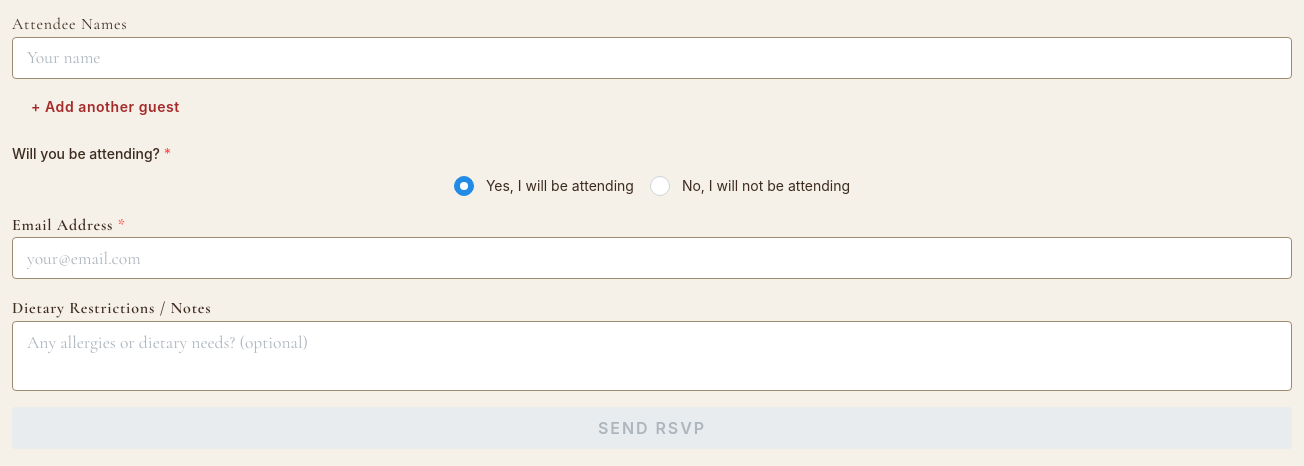
Scenario: RsvpForm › attending toggle › shows email and dietary fields again when switching back to attending
The width and height of the screenshot is (1304, 466).
Click the radio button labelled "No, I will not be attending": (660, 186) [650,176,670,196]
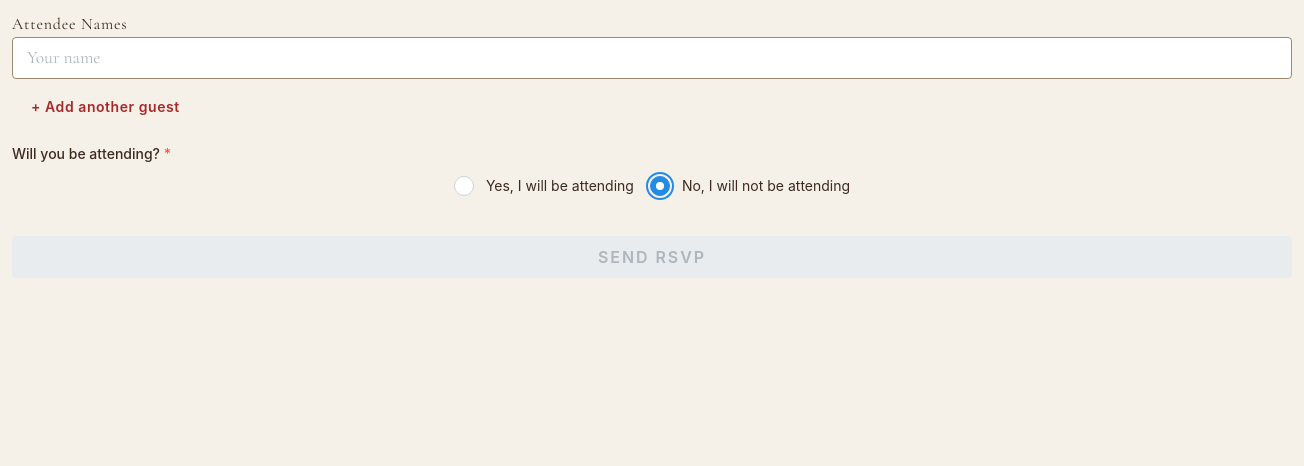
Click the radio button labelled "Yes, I will be attending": (464, 186) [454,176,474,196]
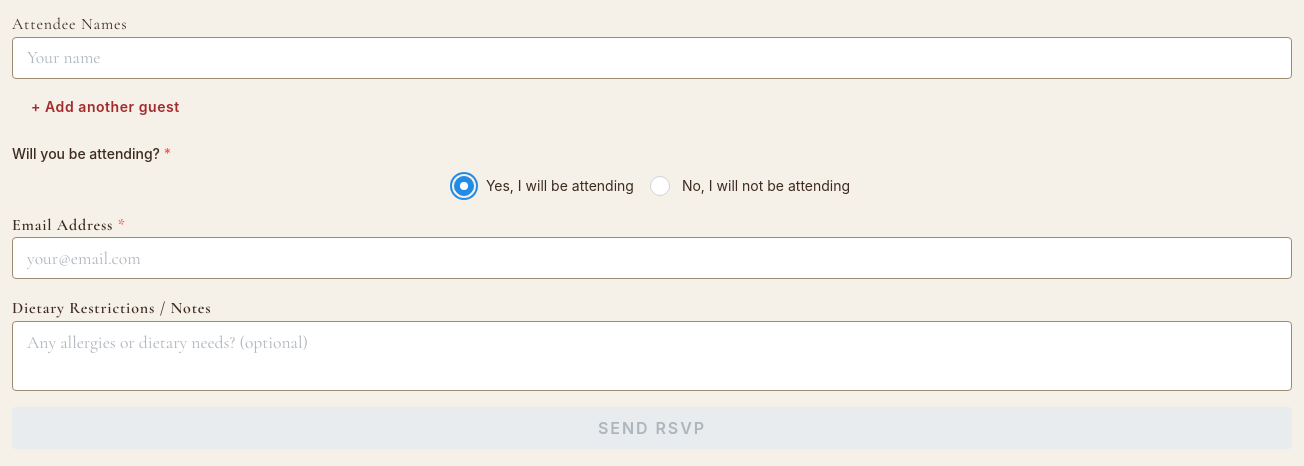
Expected: the field with placeholder "your@email.com" is shown, [12,237,1292,279]
